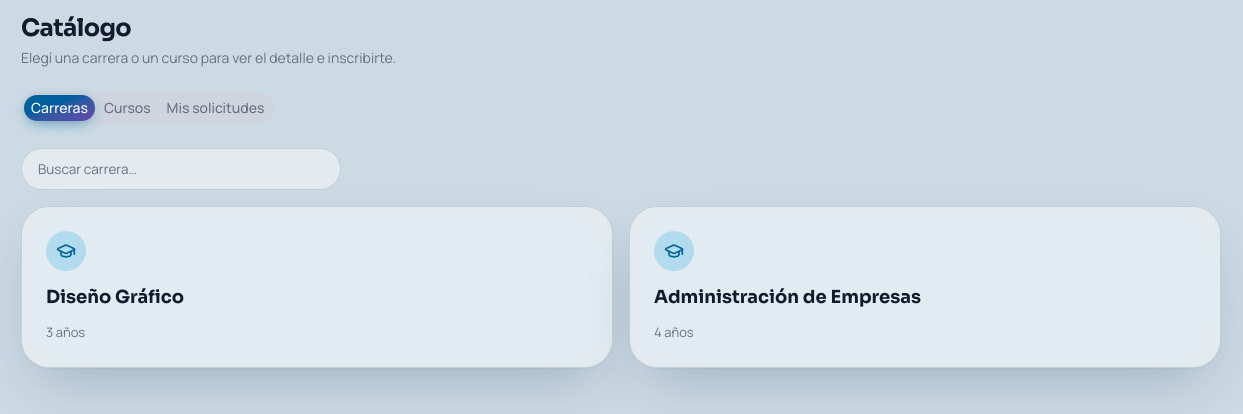
Test: Catalogo › el buscador filtra las carreras por nombre
The image size is (1243, 414).
Expected: the text "Diseño Gráfico" is shown, x1=46 y1=286 x2=184 y2=308
Type "Diseño" into the search field with placeholder "Buscar carrera…" at (181, 169), box x1=21 y1=148 x2=341 y2=190
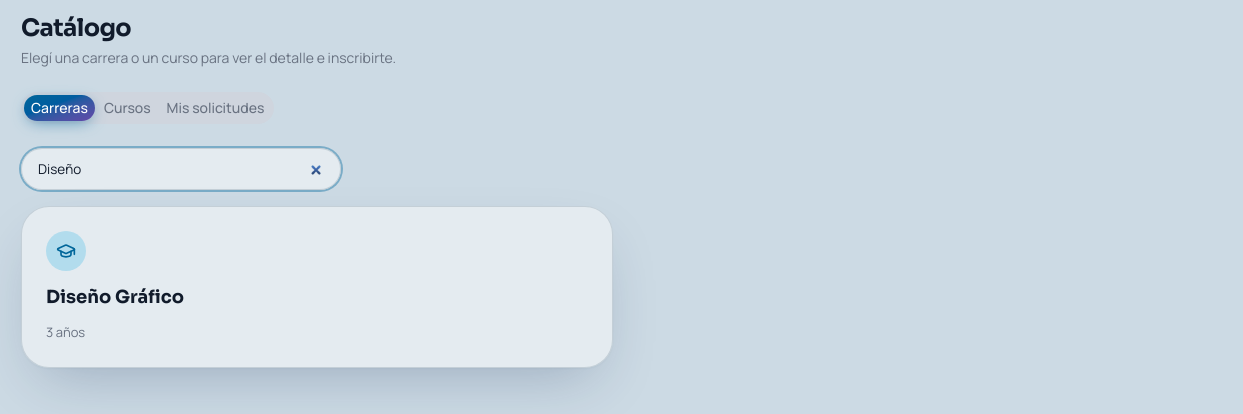
Expected: the text "Diseño Gráfico" is shown, x1=46 y1=286 x2=184 y2=308
Expected: the text "Administración de Empresas" is gone
